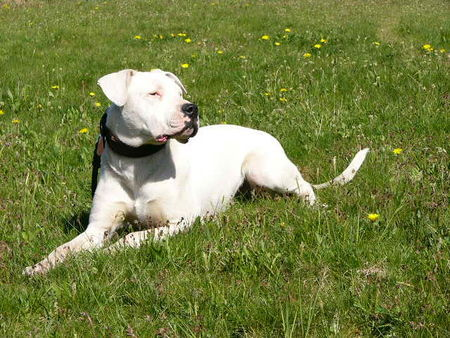dogo_argentino: (23, 67, 369, 277)
